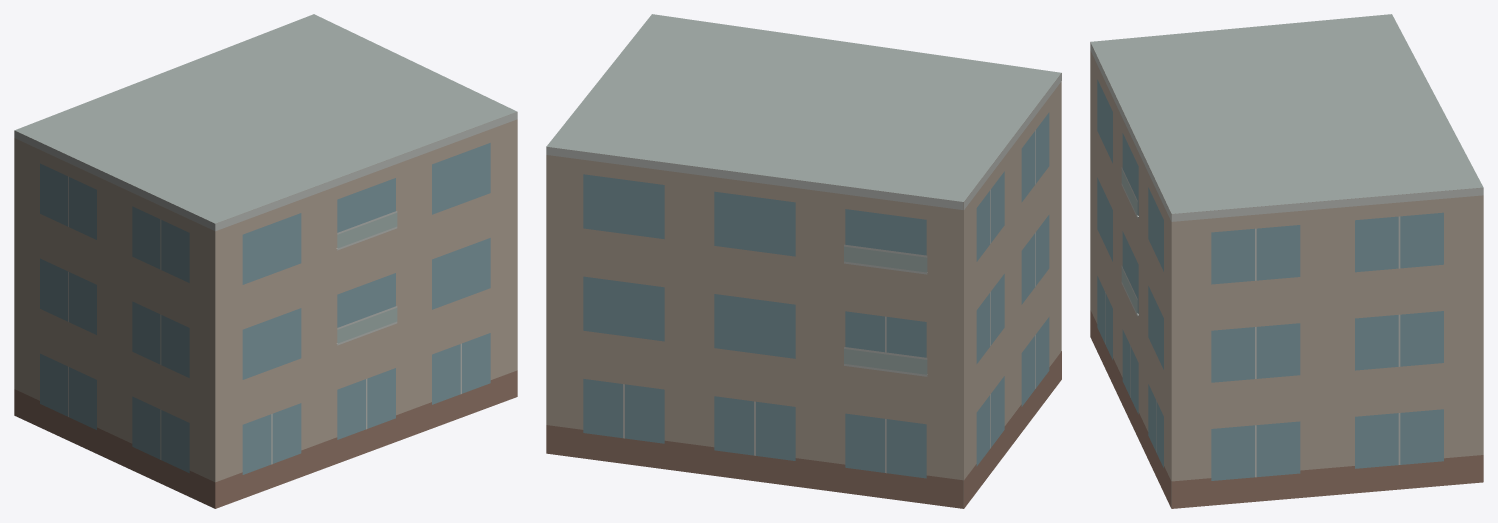
The model's file is survey-upis-33028180.glb.
3 views of the same model, side by side, from view 1: azimuth 30°, elevation 25°; view 2: azimuth 150°, elevation 25°; view 3: azimuth 270°, elevation 25° (orthographic). The views are drawn at different scales.
Parts seen in each view (by area): view 1: survey-upis-33028180.tmp; view 2: survey-upis-33028180.tmp; view 3: survey-upis-33028180.tmp.
Boxes of the visible parts, x1,y1,x2,y2 form: survey-upis-33028180.tmp: [14, 14, 517, 508]; survey-upis-33028180.tmp: [546, 14, 1061, 508]; survey-upis-33028180.tmp: [1090, 14, 1483, 508].
Bounding box in the file's own units: 13.32 × 9.15 × 11.07.
